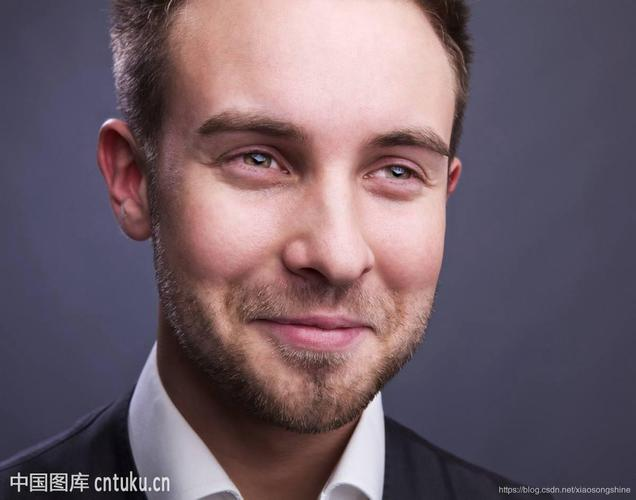no_mask: (147, 3, 463, 432)
